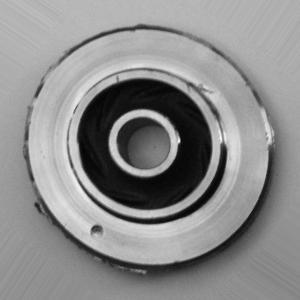casting_with_burr: (21, 24, 277, 278)
crack: (177, 71, 222, 103)
pit: (86, 220, 109, 245)
scratch: (210, 111, 238, 154), (105, 69, 131, 96)
